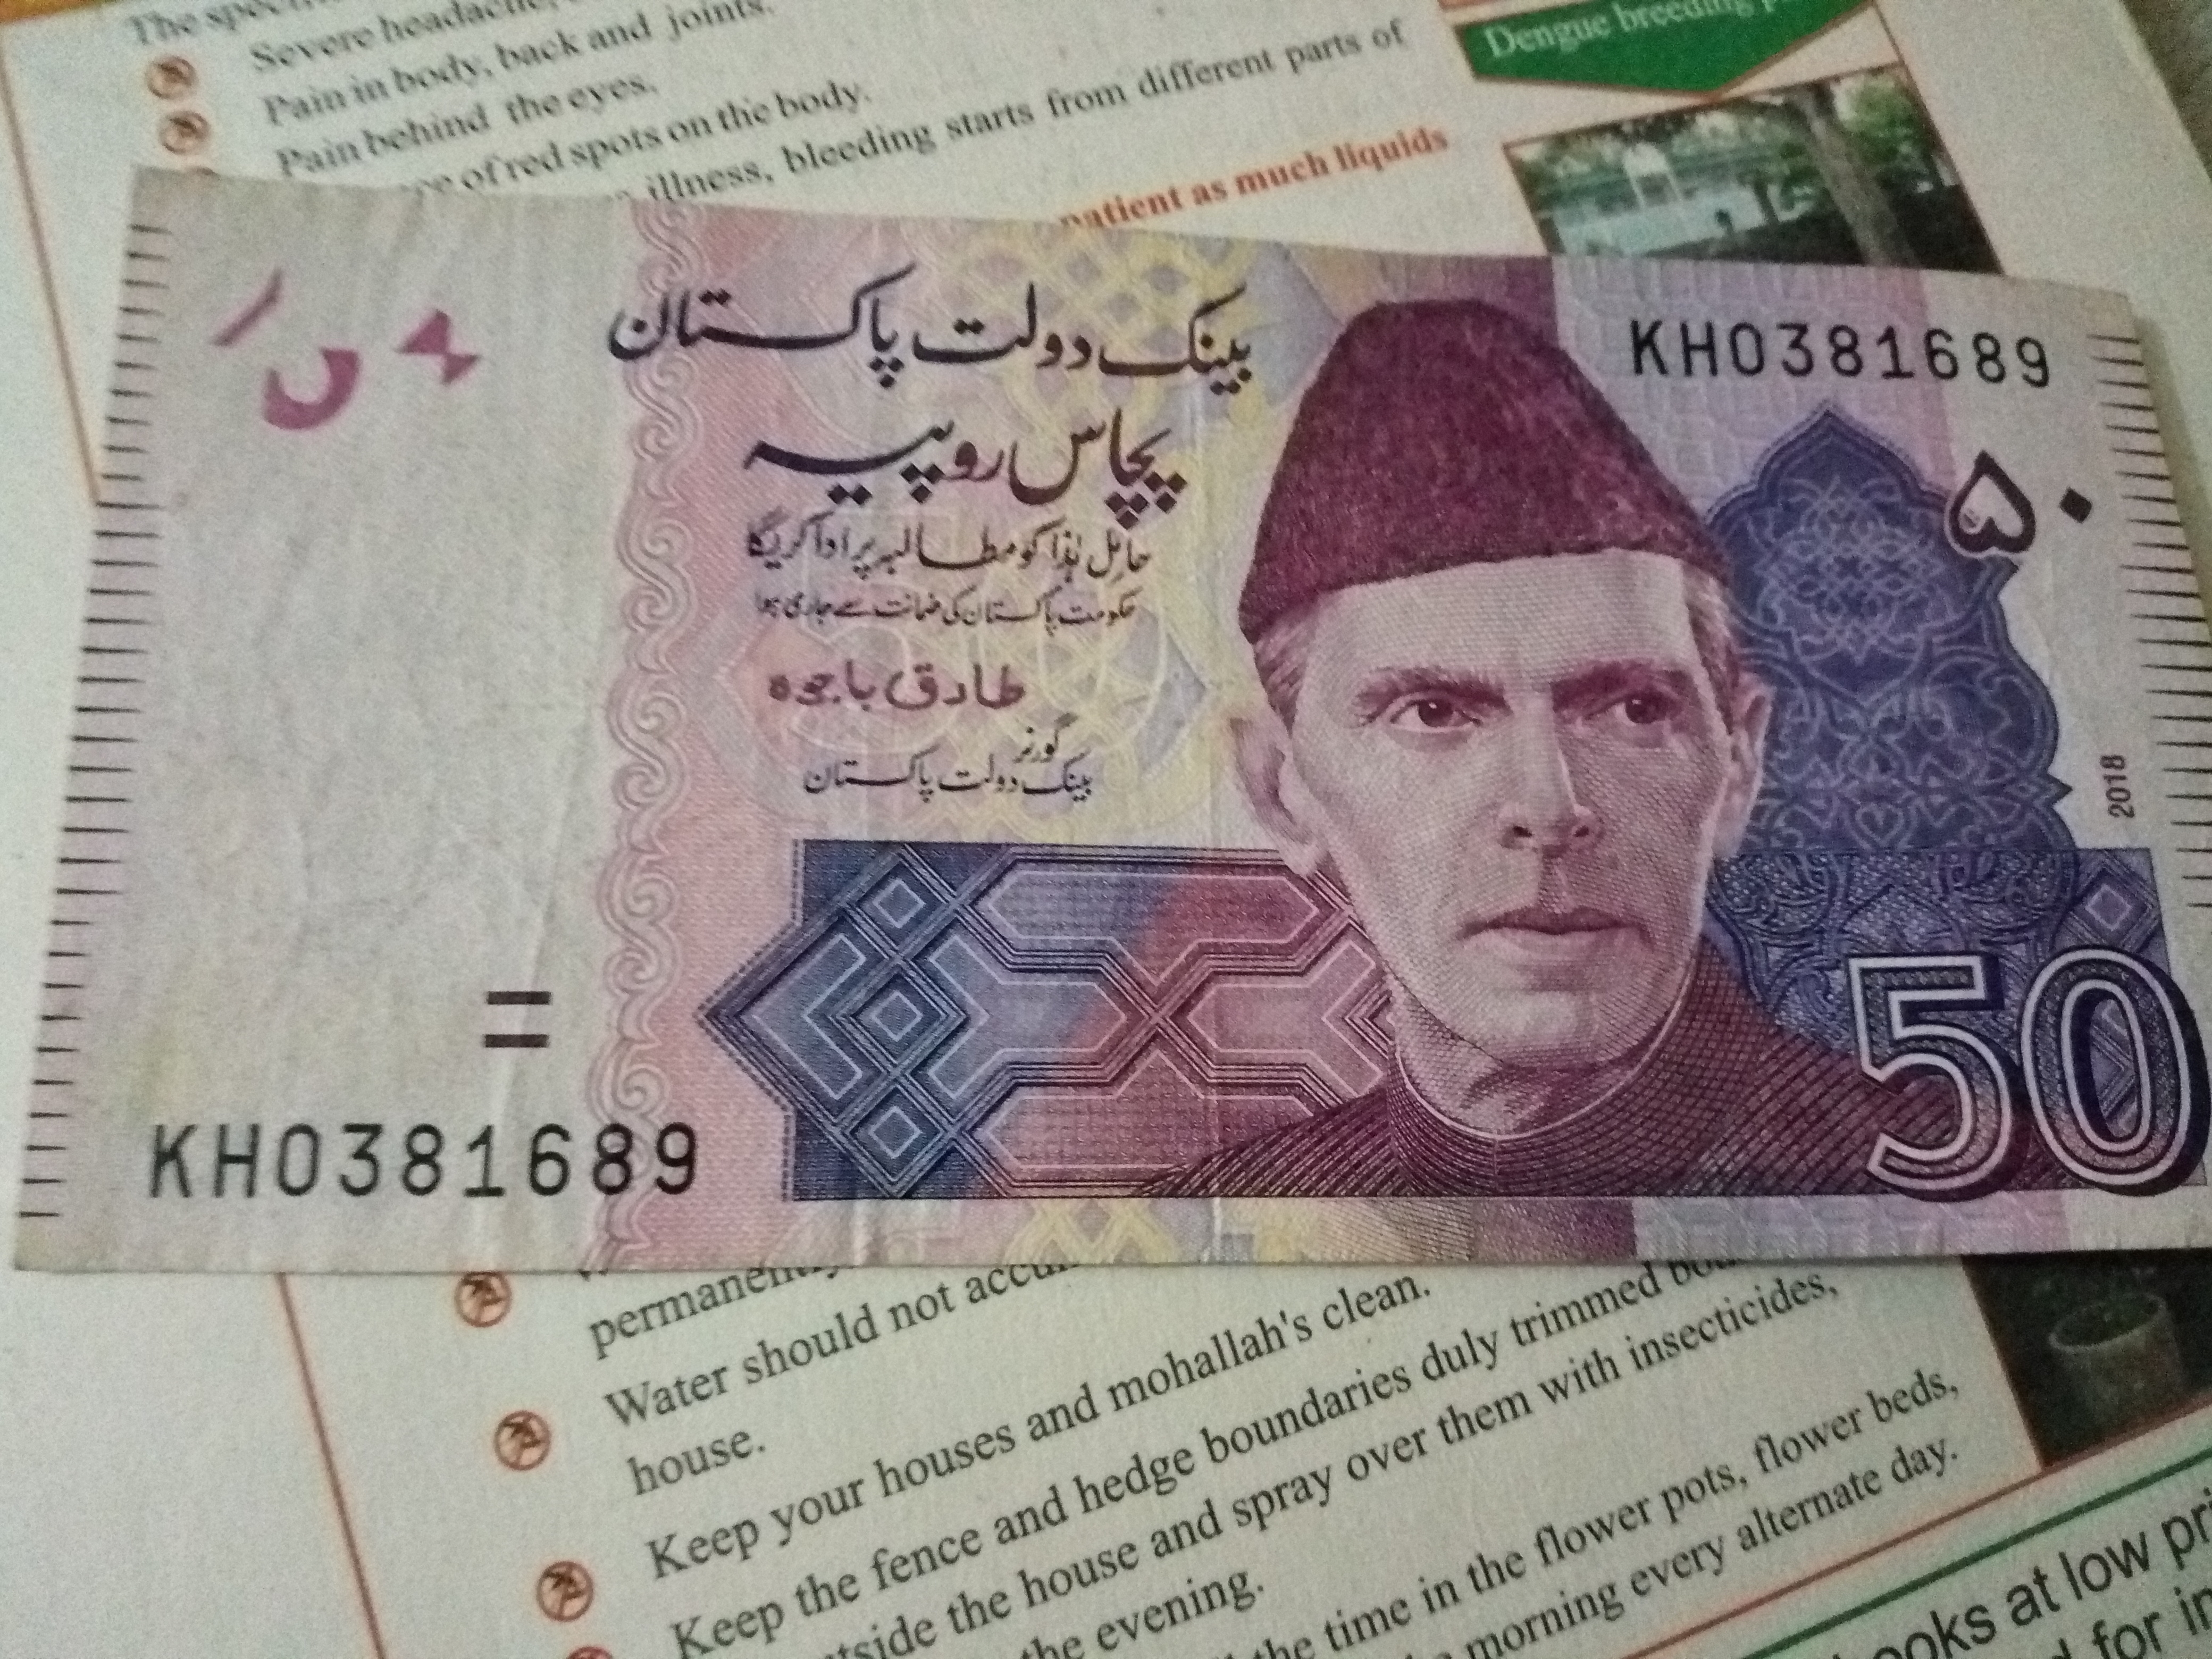50 rupee: (75, 117, 2207, 1316)
